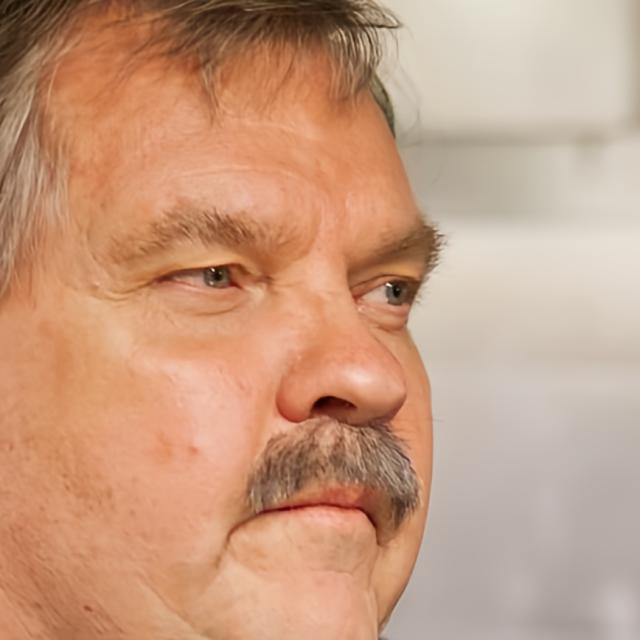anger: (8, 36, 438, 640)
